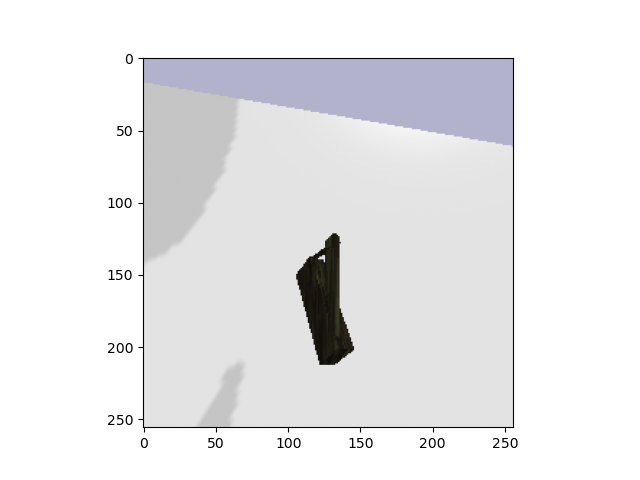v249b387_109: (280, 229, 369, 372)
